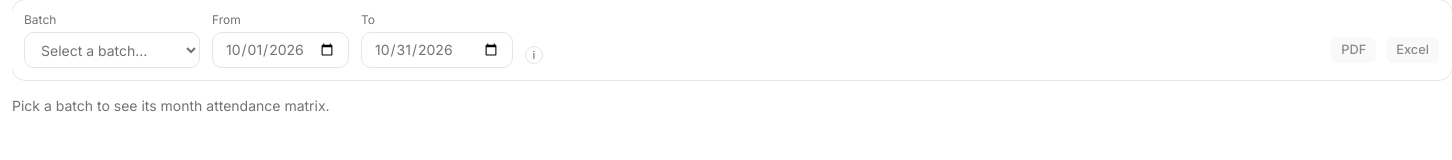
Test: BatchMatrix › shows a fallback when the batch has no scheduled lectures in range
Select "JEE-12-A" in the dropdown named "Select batch" at (112, 50), box [24,32,200,68]
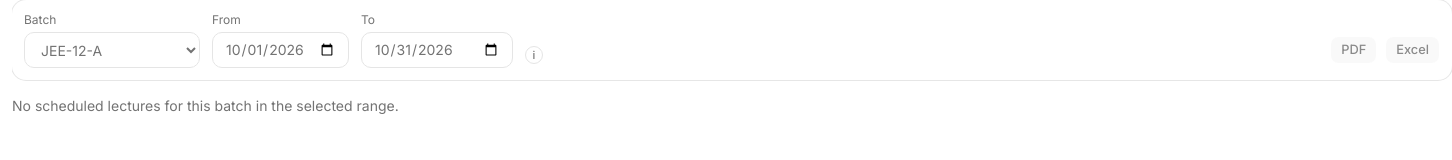
Result: the text "No scheduled lectures for this batch in the selected range." is shown at [12,97,399,114]
